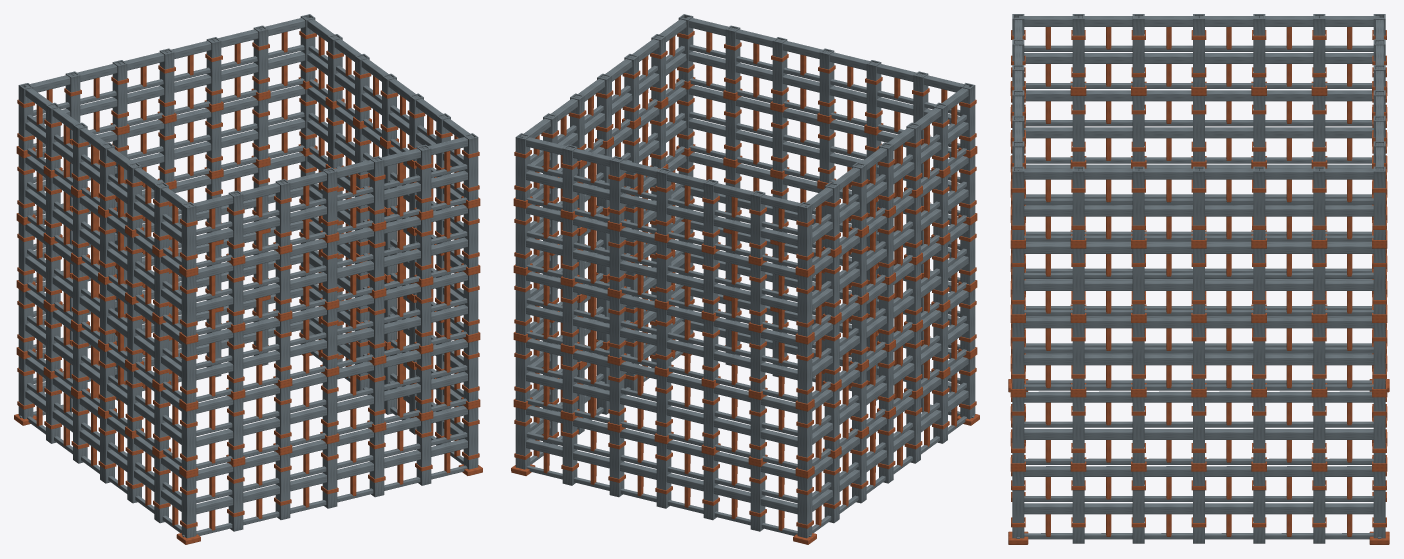
The picture shows the model from 3 angles, left to right: view 1: azimuth 30°, elevation 25°; view 2: azimuth 150°, elevation 25°; view 3: azimuth 270°, elevation 25°; orthographic projection. The views are drawn at different scales.
Visible parts, largest first — view 1: Tier 4 side 0 post 0, Tier 0 side 0 post 0, Tier 3 side 0 post 0, Tier 2 side 0 post 0, Tier 1 side 0 post 0, Tier 4 side 0 post 1, Tier 4 side 2 post 1, Tier 4 side 0 post 2, Tier 4 side 0 post 3, Tier 4 side 0 post 4, Tier 4 side 0 post 5, Tier 4 side 2 post 2 (+66 smaller); view 2: Tier 4 side 3 post 0, Tier 0 side 3 post 0, Tier 3 side 3 post 0, Tier 2 side 3 post 0, Tier 1 side 3 post 0, Tier 4 side 2 post 5, Tier 4 side 2 post 2, Tier 4 side 2 post 3, Tier 4 side 0 post 5, Tier 4 side 0 post 4, Tier 4 side 2 post 4, Tier 4 side 0 post 3 (+66 smaller); view 3: Tier 4 side 1 post 1, Tier 4 side 1 post 5, Tier 4 side 1 post 0, Tier 4 side 1 post 2, Tier 4 side 1 post 4, Tier 4 side 2 post 0, Tier 0 side 1 post 1, Tier 0 side 1 post 2, Tier 0 side 1 post 4, Tier 0 side 1 post 5, Tier 4 side 3 post 1, Tier 4 side 3 post 5 (+117 smaller).
Boxes of the visible parts, left/top/right/bottom form: Tier 4 side 0 post 0: left=181, top=202, right=196, bottom=269; Tier 0 side 0 post 0: left=181, top=475, right=196, bottom=538; Tier 3 side 0 post 0: left=181, top=274, right=196, bottom=336; Tier 2 side 0 post 0: left=181, top=341, right=196, bottom=403; Tier 1 side 0 post 0: left=181, top=408, right=196, bottom=470; Tier 4 side 0 post 1: left=228, top=190, right=243, bottom=258; Tier 4 side 2 post 1: left=253, top=25, right=268, bottom=93; Tier 4 side 0 post 2: left=275, top=179, right=290, bottom=246; Tier 4 side 0 post 3: left=322, top=167, right=337, bottom=235; Tier 4 side 0 post 4: left=369, top=156, right=384, bottom=223; Tier 4 side 0 post 5: left=416, top=144, right=431, bottom=212; Tier 4 side 2 post 2: left=206, top=37, right=221, bottom=104; Tier 4 side 3 post 0: left=797, top=202, right=812, bottom=269; Tier 0 side 3 post 0: left=797, top=475, right=812, bottom=538; Tier 3 side 3 post 0: left=797, top=274, right=812, bottom=336; Tier 2 side 3 post 0: left=797, top=341, right=812, bottom=403; Tier 1 side 3 post 0: left=797, top=408, right=812, bottom=470; Tier 4 side 2 post 5: left=750, top=190, right=765, bottom=258; Tier 4 side 2 post 2: left=609, top=156, right=624, bottom=223; Tier 4 side 2 post 3: left=656, top=167, right=671, bottom=235; Tier 4 side 0 post 5: left=725, top=25, right=740, bottom=93; Tier 4 side 0 post 4: left=772, top=37, right=787, bottom=104; Tier 4 side 2 post 4: left=703, top=179, right=718, bottom=246; Tier 4 side 0 post 3: left=819, top=48, right=834, bottom=116; Tier 4 side 1 post 1: left=1072, top=166, right=1084, bottom=239; Tier 4 side 1 post 5: left=1313, top=166, right=1325, bottom=239; Tier 4 side 1 post 0: left=1012, top=166, right=1024, bottom=239; Tier 4 side 1 post 2: left=1132, top=166, right=1144, bottom=239; Tier 4 side 1 post 4: left=1253, top=166, right=1265, bottom=239; Tier 4 side 2 post 0: left=1373, top=166, right=1385, bottom=239; Tier 0 side 1 post 1: left=1072, top=471, right=1084, bottom=543; Tier 0 side 1 post 2: left=1132, top=471, right=1144, bottom=543; Tier 0 side 1 post 4: left=1253, top=471, right=1265, bottom=543; Tier 0 side 1 post 5: left=1313, top=471, right=1325, bottom=543; Tier 4 side 3 post 1: left=1313, top=14, right=1325, bottom=87; Tier 4 side 3 post 5: left=1072, top=14, right=1084, bottom=87.
Bounding box in the file's own units: 2.85 × 3.07 × 2.85.
2 materials, 2 textured.
